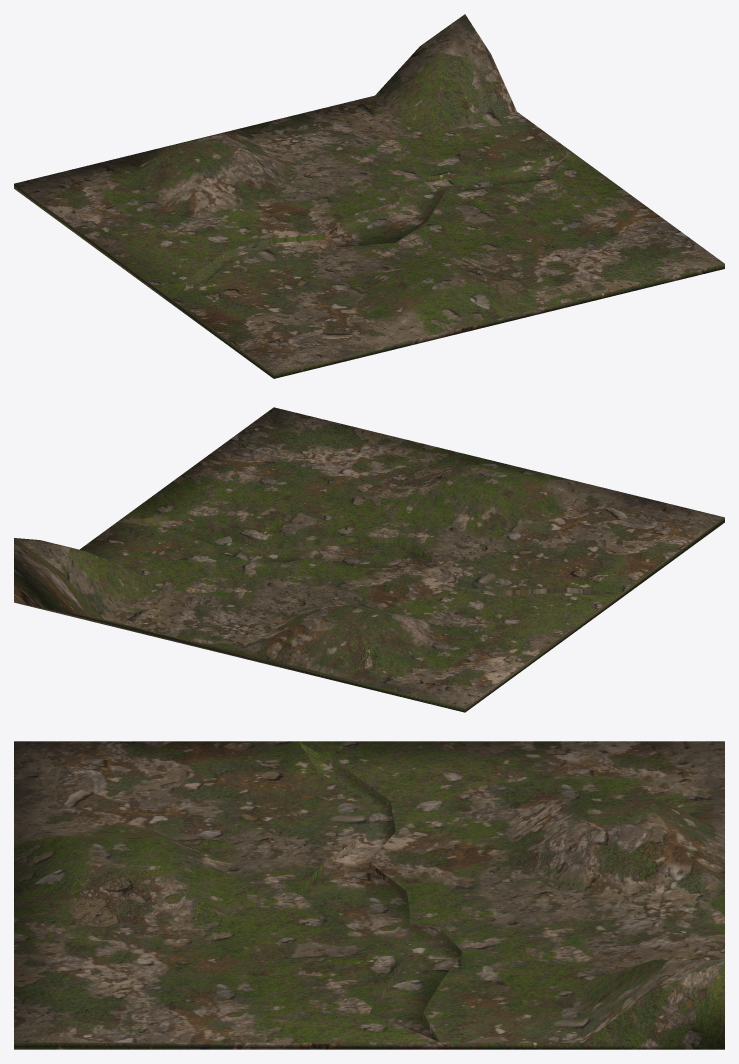
The model's file is ground.glb.
3 renders of one model, top to bottom at view 1: azimuth 30°, elevation 25°; view 2: azimuth 150°, elevation 25°; view 3: azimuth 270°, elevation 25°, orthographic. The views are drawn at different scales.
Parts seen in each view (by area): view 1: Cube; view 2: Cube; view 3: Cube.
Part boxes in pixels (<box>): Cube: <box>14,14,724,378</box>; Cube: <box>14,407,724,712</box>; Cube: <box>14,741,724,1049</box>.
Size of the model in its own units: 10.03 by 1.37 by 10.
1 material, 1 textured.
